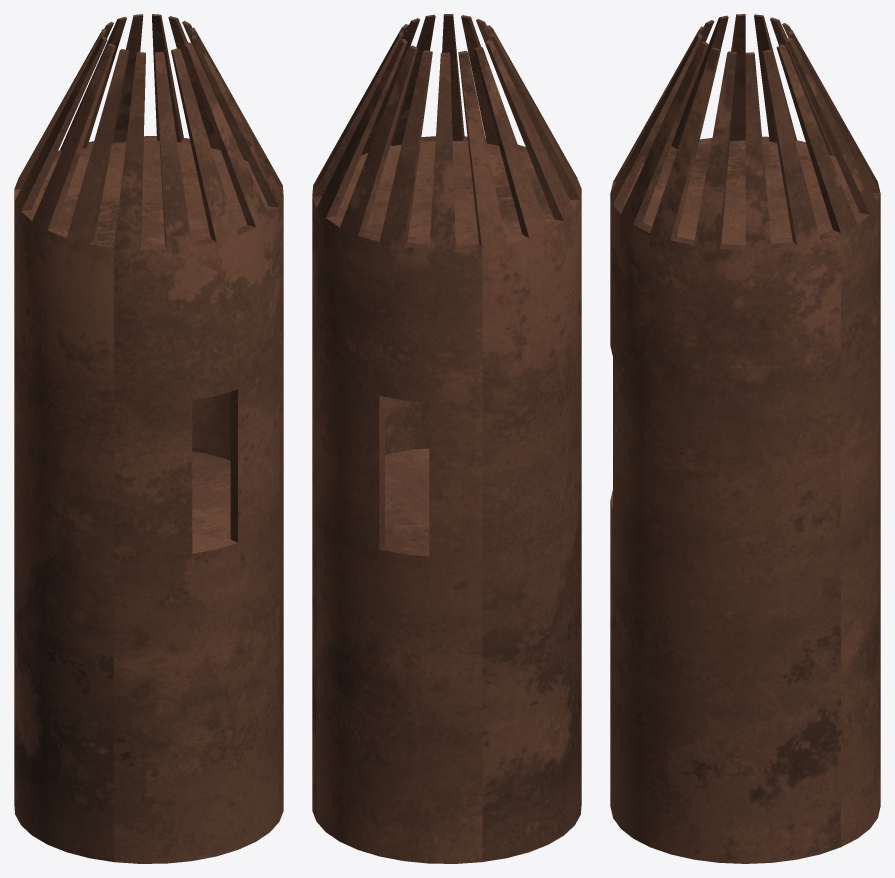
File: Tower3.fbx
3 renders of one model, left to right at view 1: azimuth 30°, elevation 25°; view 2: azimuth 150°, elevation 25°; view 3: azimuth 270°, elevation 25°, orthographic.
Visible parts, largest first — view 1: Circle.001; view 2: Circle.001; view 3: Circle.001.
Boxes of the visible parts, x1,y1,x2,y2 form: Circle.001: (14,14,283,863); Circle.001: (312,14,581,863); Circle.001: (610,14,880,863).
Size of the model in its own units: 9170 by 28957 by 9170.
1 material, 1 textured.
